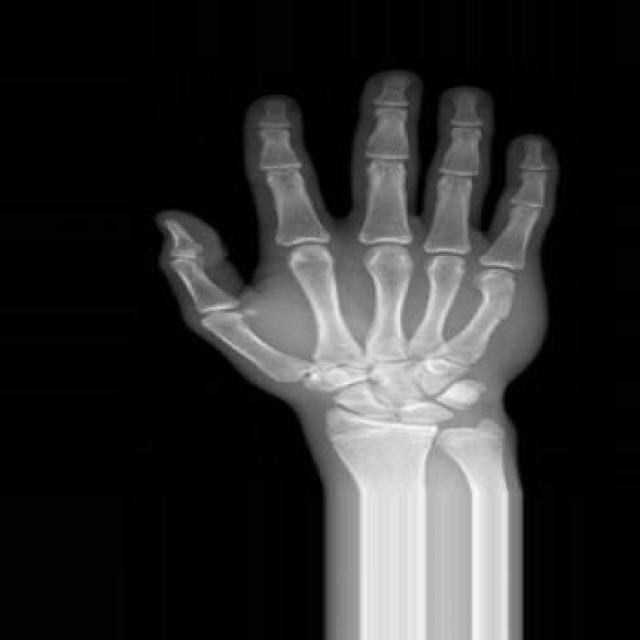Fracture: (477, 300, 514, 323)
